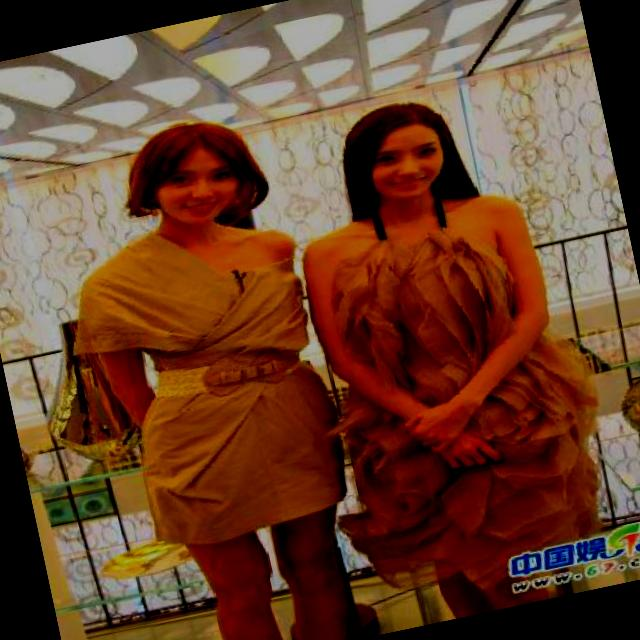Person: (0, 87, 400, 640), (271, 72, 640, 633)
